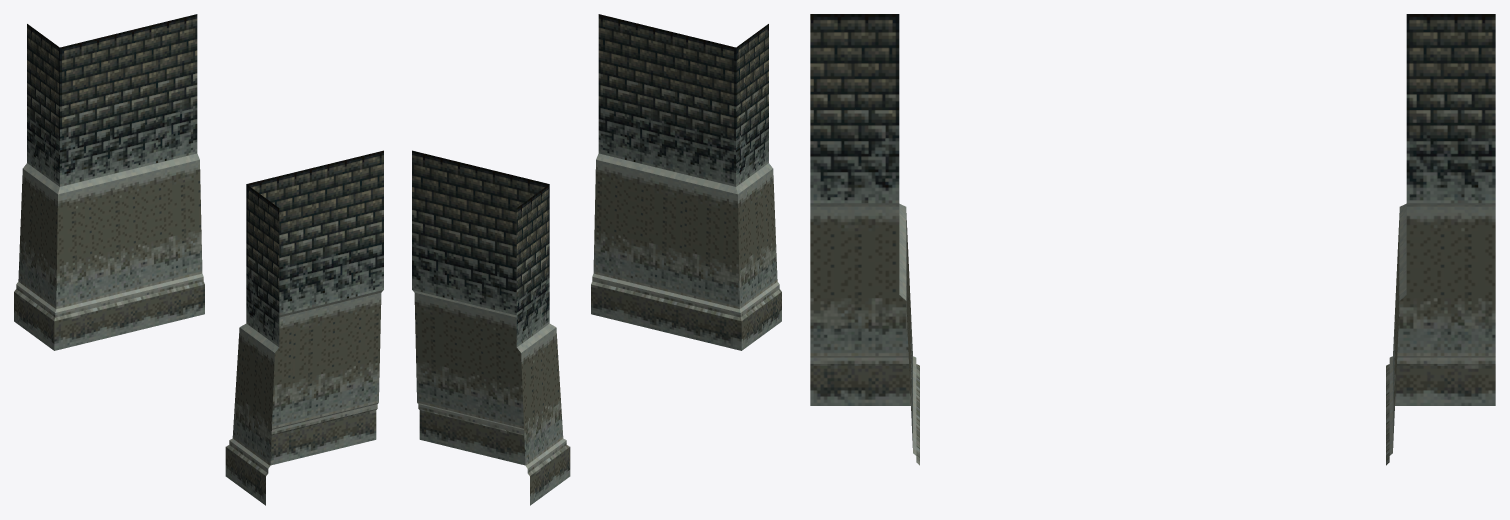
Rendered from EnvBdgMD_Castle_Raimei_A_Bridge_A_10W_End_A_Snow.FBX.
The picture shows the model from 3 angles, left to right: view 1: azimuth 30°, elevation 25°; view 2: azimuth 150°, elevation 25°; view 3: azimuth 270°, elevation 25°; orthographic projection. The views are drawn at different scales.
Parts seen in each view (by area): view 1: EnvBdgMD_Castle_Raimei_A_Bridge_A_10W_End_A_Snow; view 2: EnvBdgMD_Castle_Raimei_A_Bridge_A_10W_End_A_Snow; view 3: EnvBdgMD_Castle_Raimei_A_Bridge_A_10W_End_A_Snow.
Boxes of the visible parts, bbox=[...] form: EnvBdgMD_Castle_Raimei_A_Bridge_A_10W_End_A_Snow: bbox=[14, 14, 383, 505]; EnvBdgMD_Castle_Raimei_A_Bridge_A_10W_End_A_Snow: bbox=[412, 14, 781, 505]; EnvBdgMD_Castle_Raimei_A_Bridge_A_10W_End_A_Snow: bbox=[810, 14, 1495, 465].
Bounding box in the file's own units: 345 × 645 × 1000.
